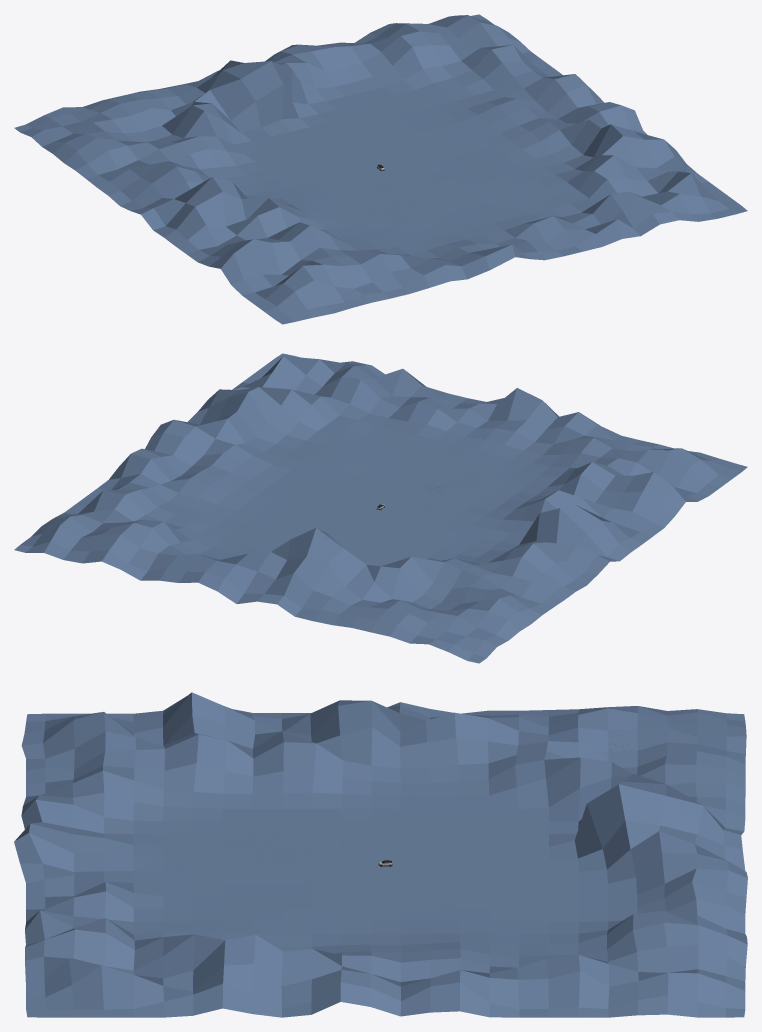
The model's file is Environement+megane2.glb.
3 views of the same model, one above another, from view 1: azimuth 30°, elevation 25°; view 2: azimuth 150°, elevation 25°; view 3: azimuth 270°, elevation 25° (orthographic). The views are drawn at different scales.
Parts seen in each view (by area): view 1: Plan; view 2: Plan; view 3: Plan.
Boxes of the visible parts, x1=… form: Plan: x1=14, y1=14, x2=747, y2=324; Plan: x1=14, y1=353, x2=747, y2=663; Plan: x1=14, y1=692, x2=747, y2=1017.
Bounding box in the file's own units: 48.99 × 4.97 × 49.47.
2 materials, 2 textured.
